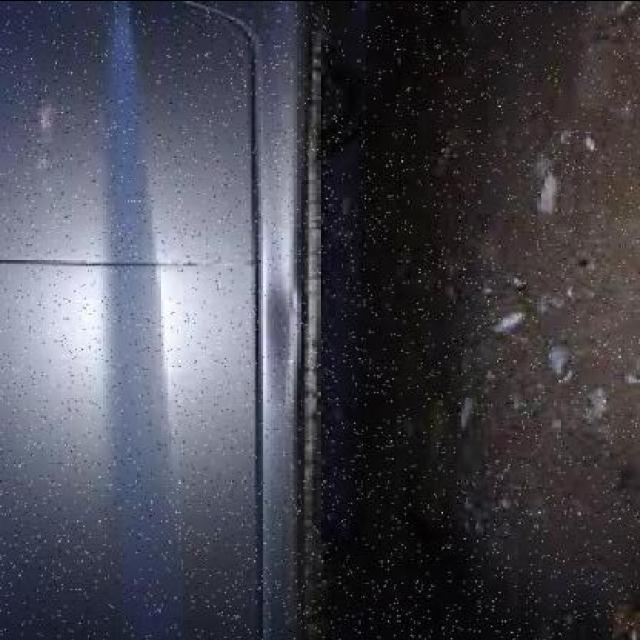RunningBoard-Dent: (225, 3, 342, 640)
